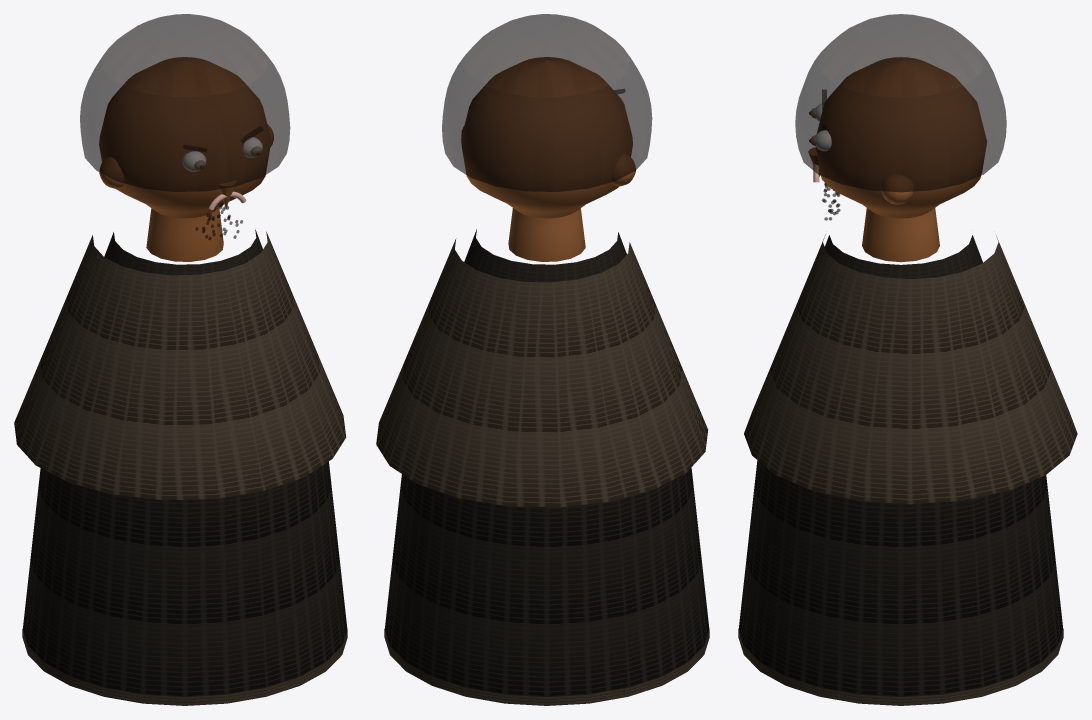
Rendered from displaced_merchant.glb.
The picture shows the model from 3 angles, left to right: view 1: azimuth 30°, elevation 25°; view 2: azimuth 150°, elevation 25°; view 3: azimuth 270°, elevation 25°; orthographic projection.
Parts seen in each view (by area): view 1: Character_upset_pilgrim_buyer, head; view 2: Character_upset_pilgrim_buyer, head; view 3: Character_upset_pilgrim_buyer, head.
Part boxes in pixels (<box>): Character_upset_pilgrim_buyer: <box>14,14,347,705</box>; head: <box>99,57,270,218</box>; Character_upset_pilgrim_buyer: <box>376,14,709,705</box>; head: <box>461,57,632,218</box>; Character_upset_pilgrim_buyer: <box>738,14,1077,705</box>; head: <box>816,57,986,218</box>.
Size of the model in its own units: 0.8874 by 1.8 by 0.9021.
Materials: 8 (4 with a texture image).
